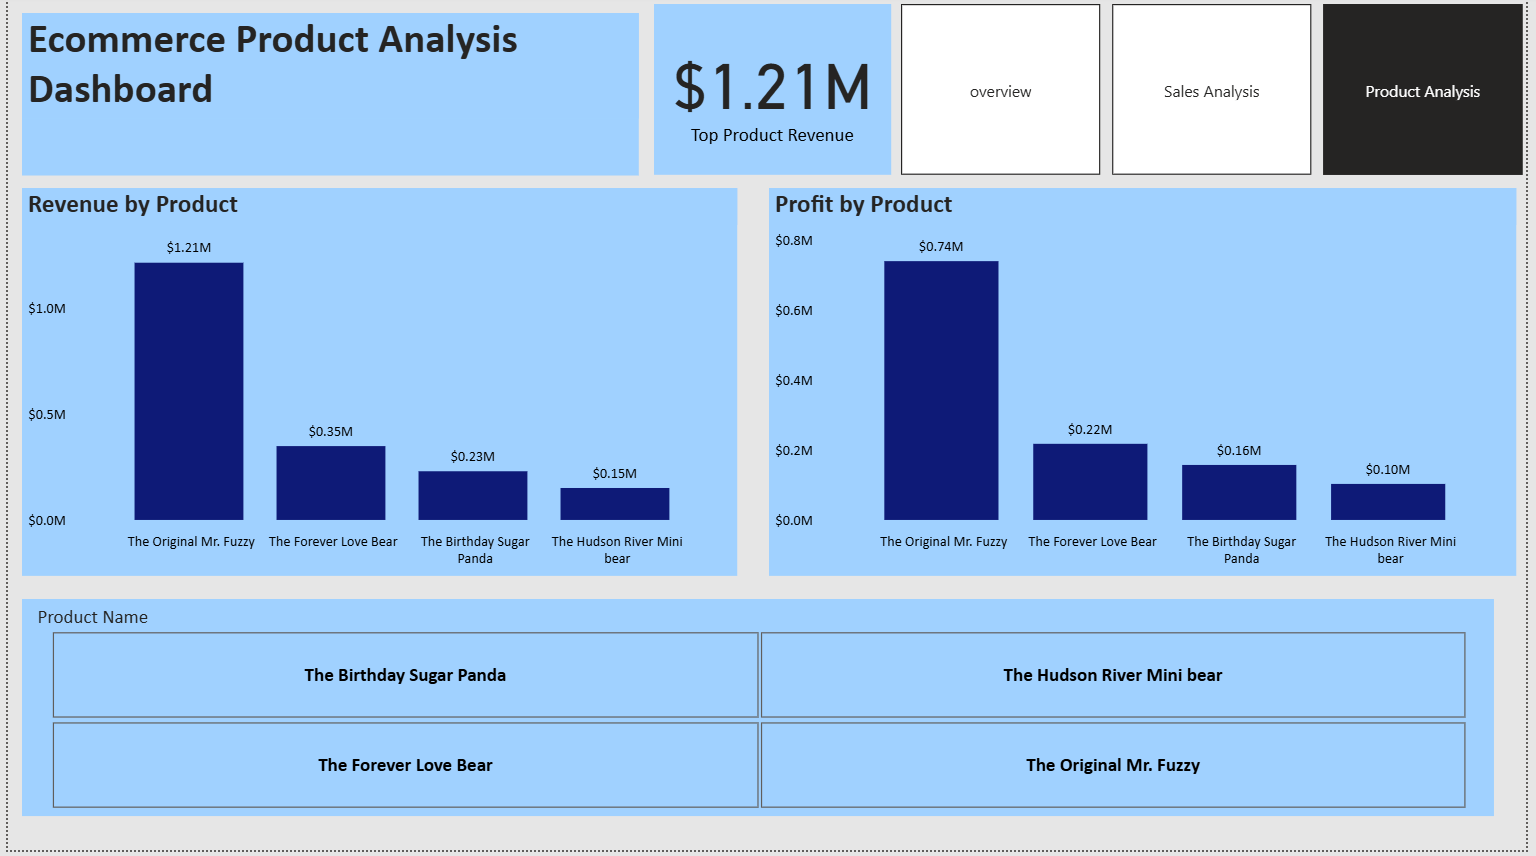

This screenshot's page, from the dashboard's own definition file:
{"tool":"powerbi","page":{"name":"Product Analysis","canvas":[1280,720],"ordinal":2},"visuals":[{"type":"textbox","title":"Ecommerce Product Analysis  Dashboard","box":[11.6,14.3,520.3,137],"z":0},{"type":"clusteredColumnChart","title":"Revenue by Product","fields":{"Category":["Product_Data.product_name"],"Y":["Order items.Total Revenue"]},"box":[11.6,162.1,602.7,326.9],"z":1000},{"type":"clusteredColumnChart","title":"Profit by Product","fields":{"Y":["Sum(Order items.Profit_usd)"],"Category":["Product_Data.product_name"]},"box":[641.2,162.1,629.6,326.9],"z":2000},{"type":"slicer","fields":{"Values":["Product_Data.product_name"]},"box":[11.6,508.7,1241.2,182.7],"z":3000},{"type":"card","fields":{"Values":["Order items.Top Product Revenue"]},"box":[544.5,7.2,199.7,144.2],"z":4000},{"type":"pageNavigator","box":[753.1,7.2,526.6,144.2],"z":5000}]}

Visuals, with their boxes in screenshot pixels (x1, y1, x2, y2), scaled from the page's 1280x720 canvas onto the 1536x856 screenshot:
"Ecommerce Product Analysis  Dashboard" textbox: 14 17 638 180
"Revenue by Product" clusteredColumnChart: 14 193 737 581
"Profit by Product" clusteredColumnChart: 769 193 1525 581
slicer - Product_Data.product_name: 14 605 1503 822
card - Order items.Top Product Revenue: 653 9 893 180
pageNavigator: 904 9 1535 180
